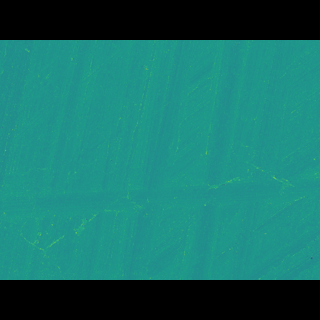Loch: (0, 172, 320, 210), (0, 71, 138, 151)
